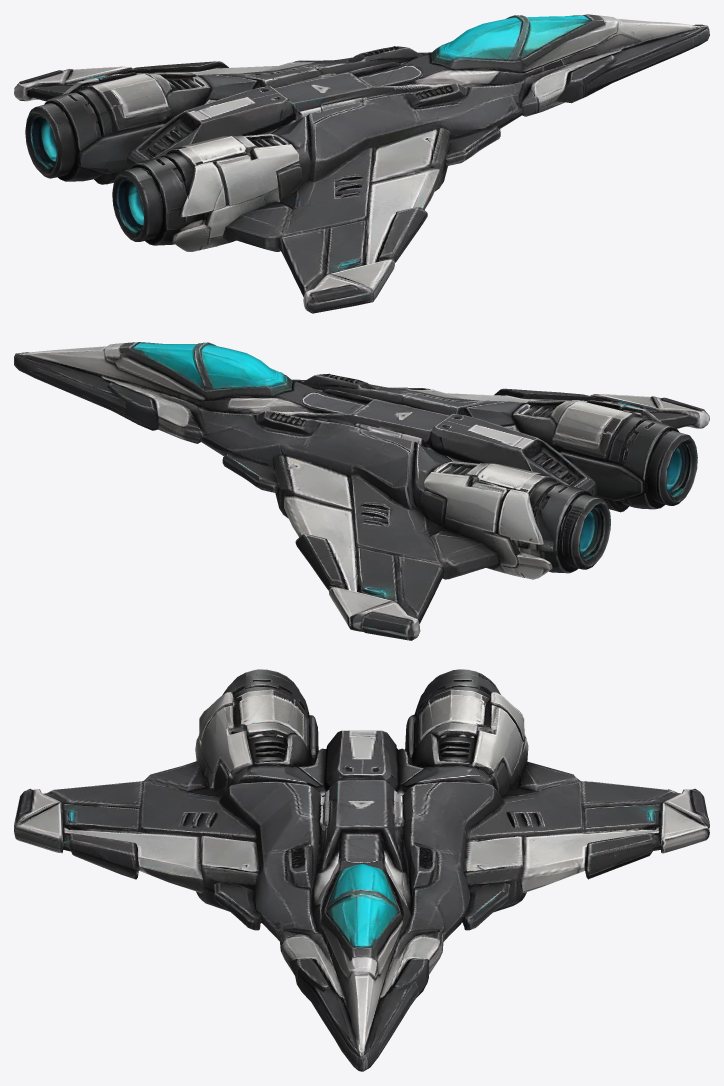
The model's file is courier.glb.
The picture shows the model from 3 angles, top to bottom: view 1: azimuth 30°, elevation 25°; view 2: azimuth 150°, elevation 25°; view 3: azimuth 270°, elevation 25°; orthographic projection. The views are drawn at different scales.
Visible parts, largest first — view 1: Mesh_0_game; view 2: Mesh_0_game; view 3: Mesh_0_game.
Boxes of the visible parts, box(x1,y1,x2,y2) form: Mesh_0_game: box(14, 14, 709, 313); Mesh_0_game: box(14, 342, 709, 640); Mesh_0_game: box(14, 669, 709, 1071).
Bounding box in the file's own units: 0.9085 × 0.1458 × 0.7657.
Materials: 1 (1 with a texture image).
